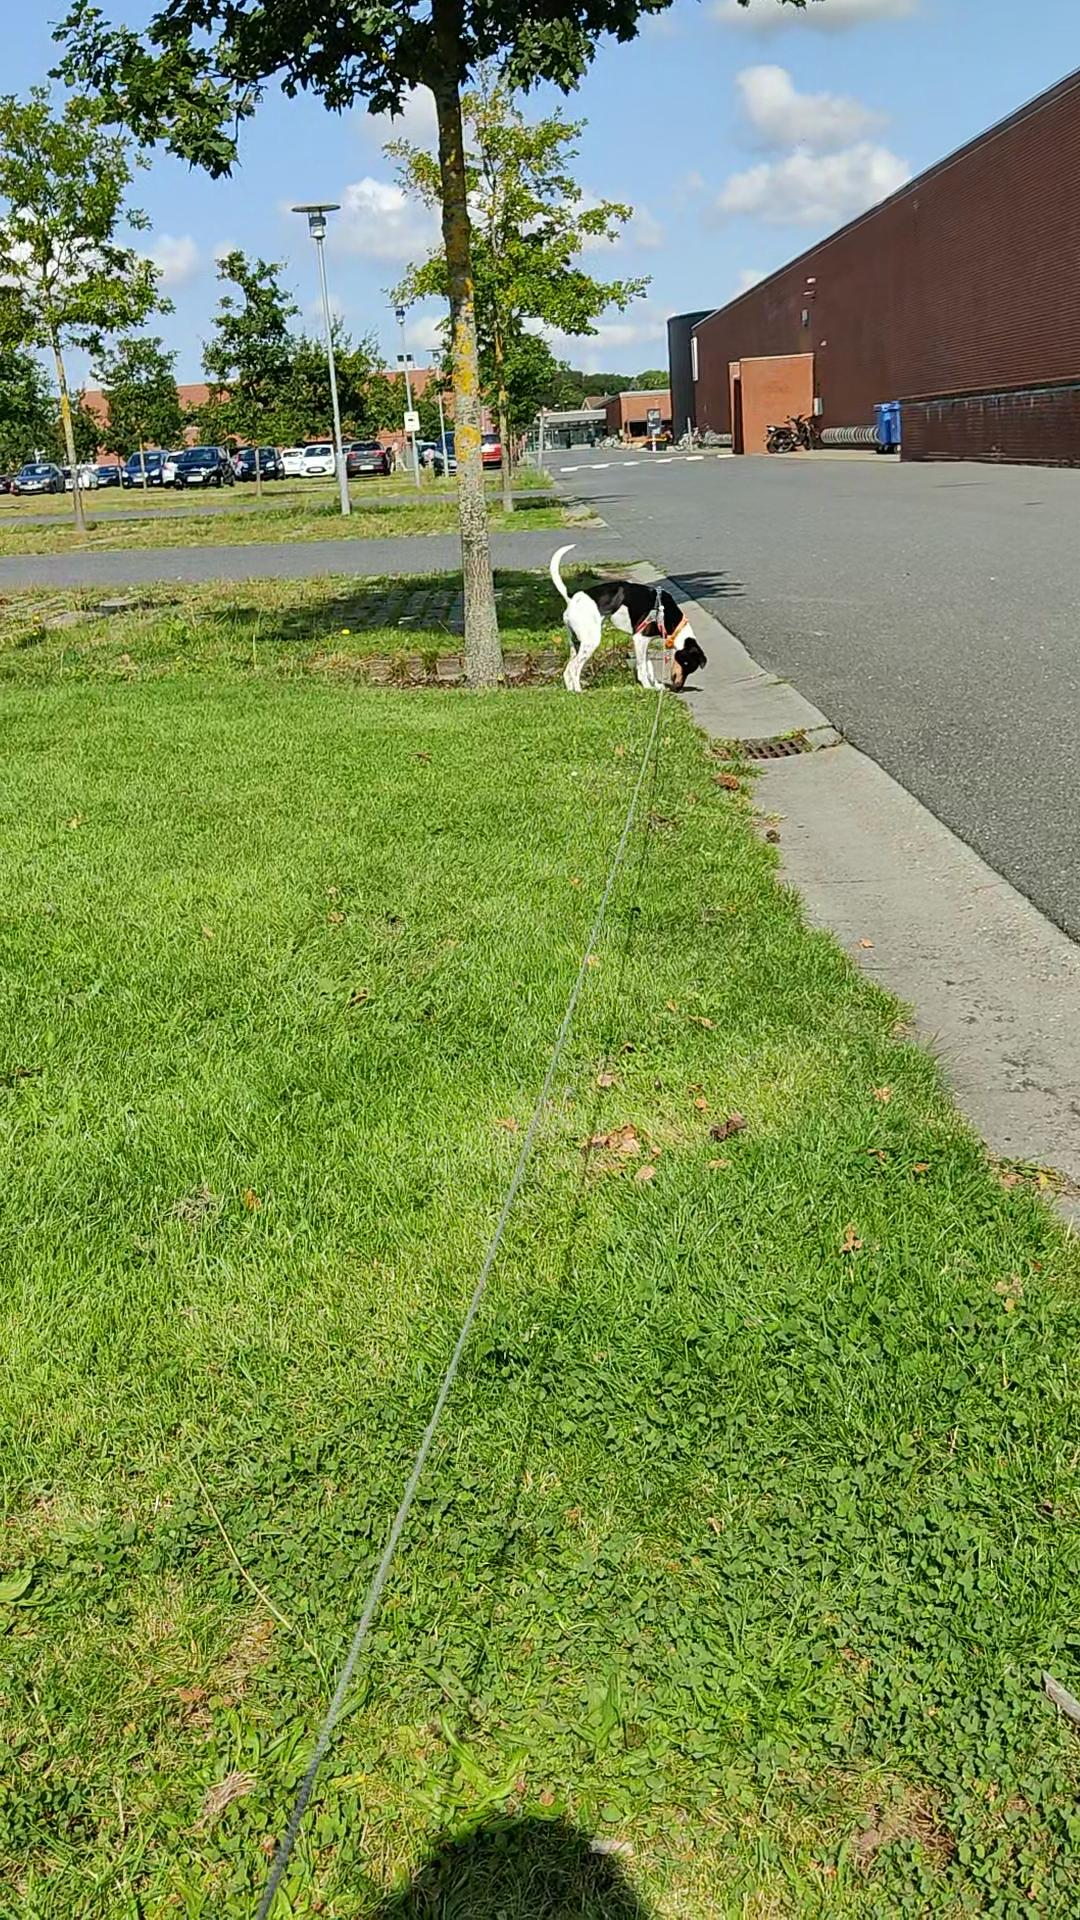Dog: (539, 530, 708, 696)
